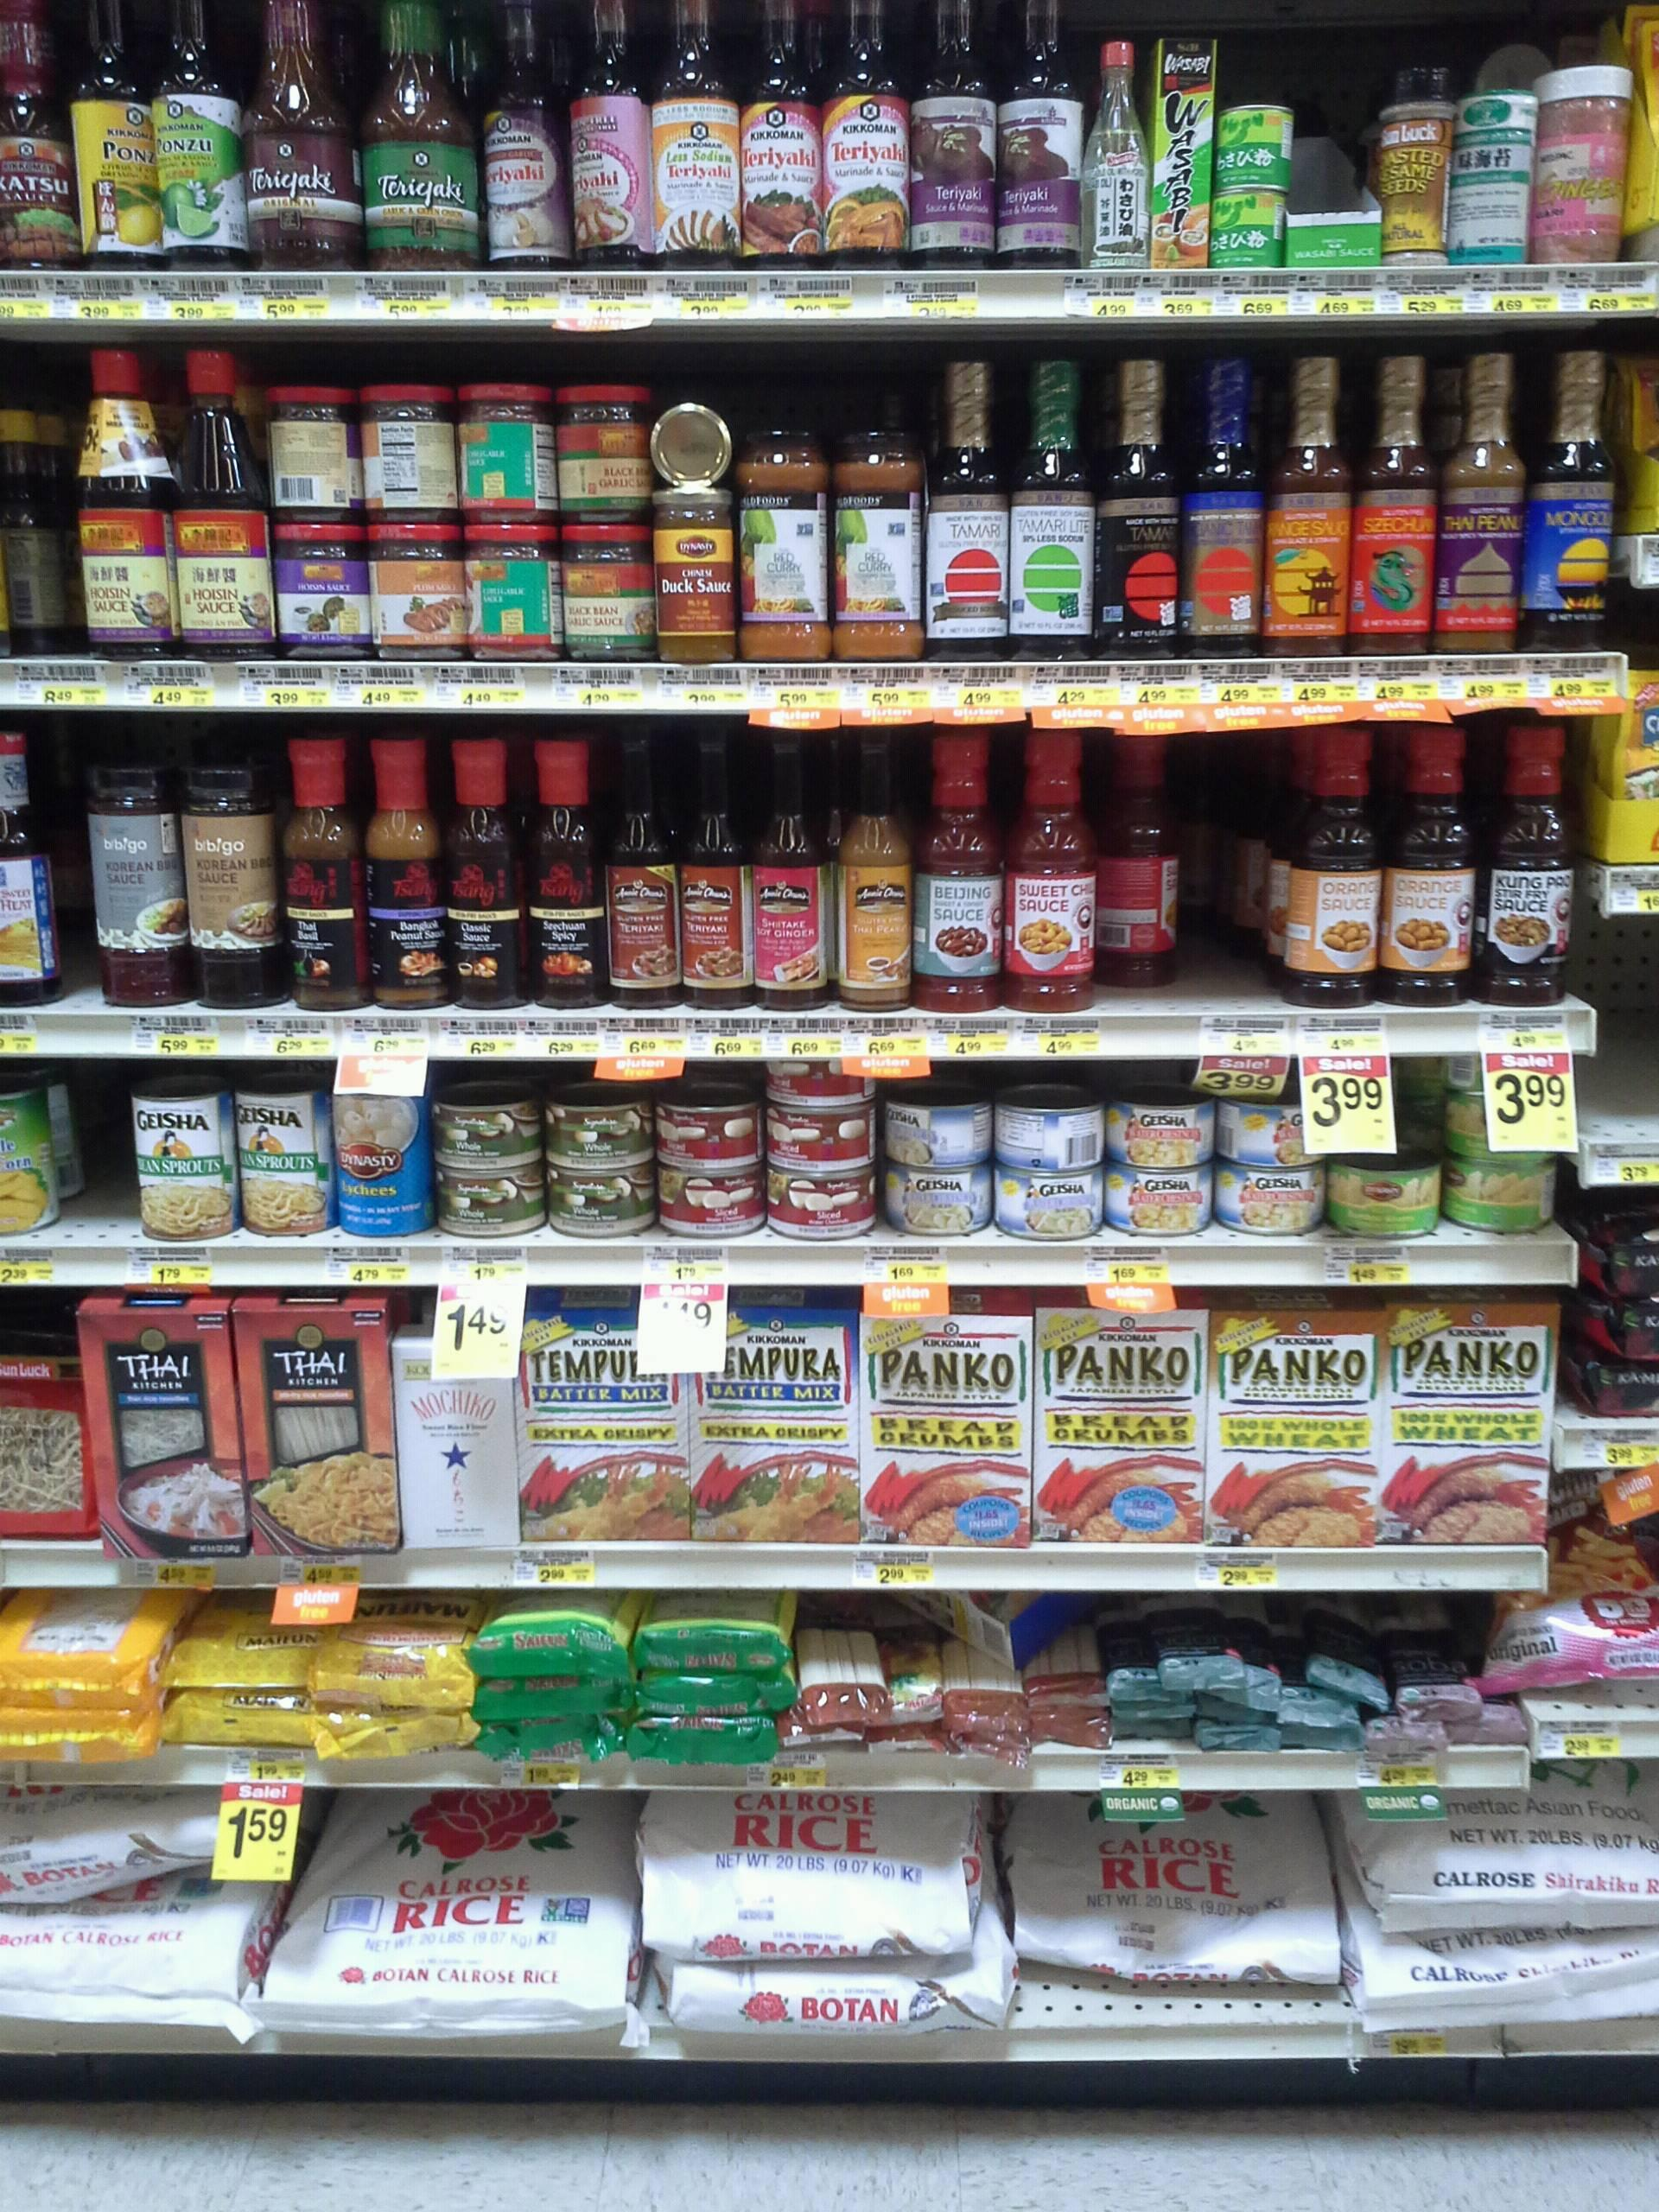empty: (1601, 946, 1659, 1144), (1197, 752, 1243, 991), (68, 1069, 129, 1237), (1297, 91, 1363, 221)
misalignment: (915, 1590, 1091, 1669)
